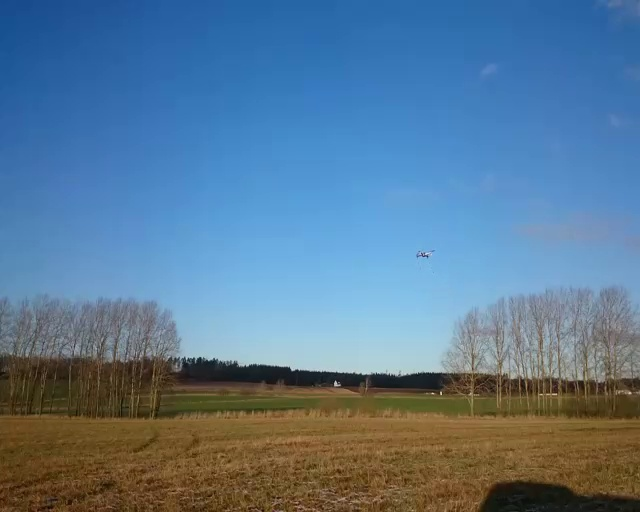DRONE: (417, 249, 435, 259)
